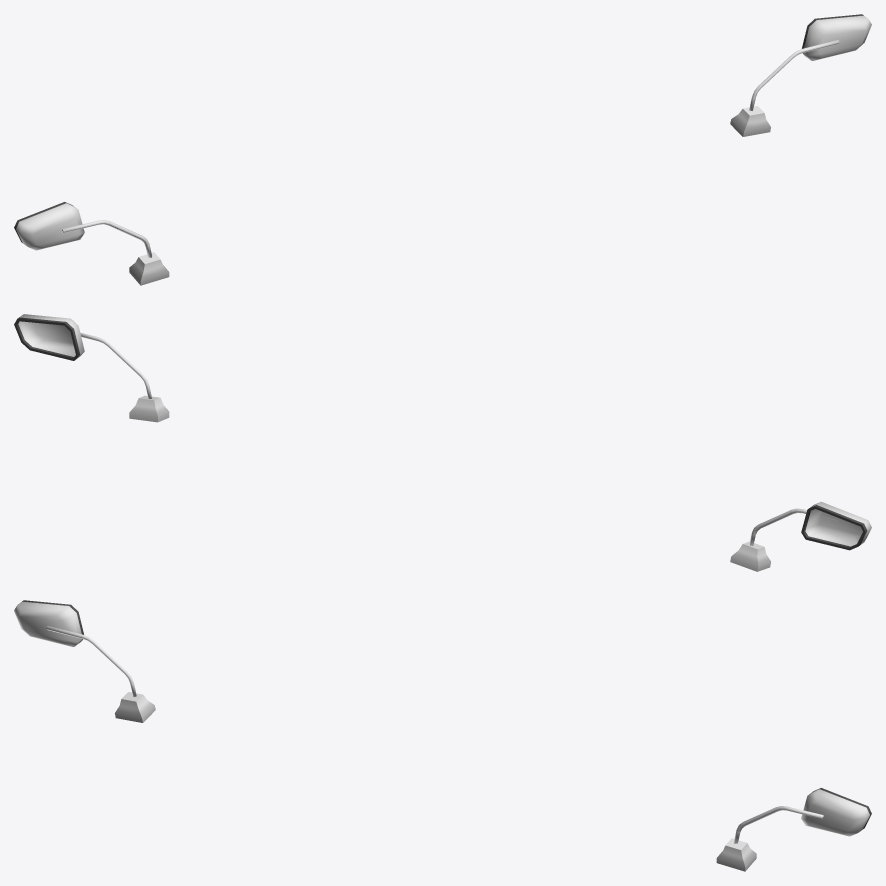
File: jiaxiaodaochejing01.FBX
The picture shows the model from 3 angles, top to bottom: view 1: azimuth 30°, elevation 25°; view 2: azimuth 150°, elevation 25°; view 3: azimuth 330°, elevation 25°; orthographic projection.
Visible parts, largest first — view 1: jiaxiaofanguangjing01, jiaxiaofanguangjing002; view 2: jiaxiaofanguangjing002, jiaxiaofanguangjing01; view 3: jiaxiaofanguangjing002, jiaxiaofanguangjing01.
Boxes of the visible parts, x1,y1,x2,y2 form: jiaxiaofanguangjing01: (14, 202, 169, 285); jiaxiaofanguangjing002: (730, 14, 871, 136); jiaxiaofanguangjing002: (14, 314, 169, 422); jiaxiaofanguangjing01: (730, 501, 871, 571); jiaxiaofanguangjing002: (716, 788, 871, 871); jiaxiaofanguangjing01: (14, 600, 155, 722).
Size of the model in its own units: 1157 by 113 by 39.91.
